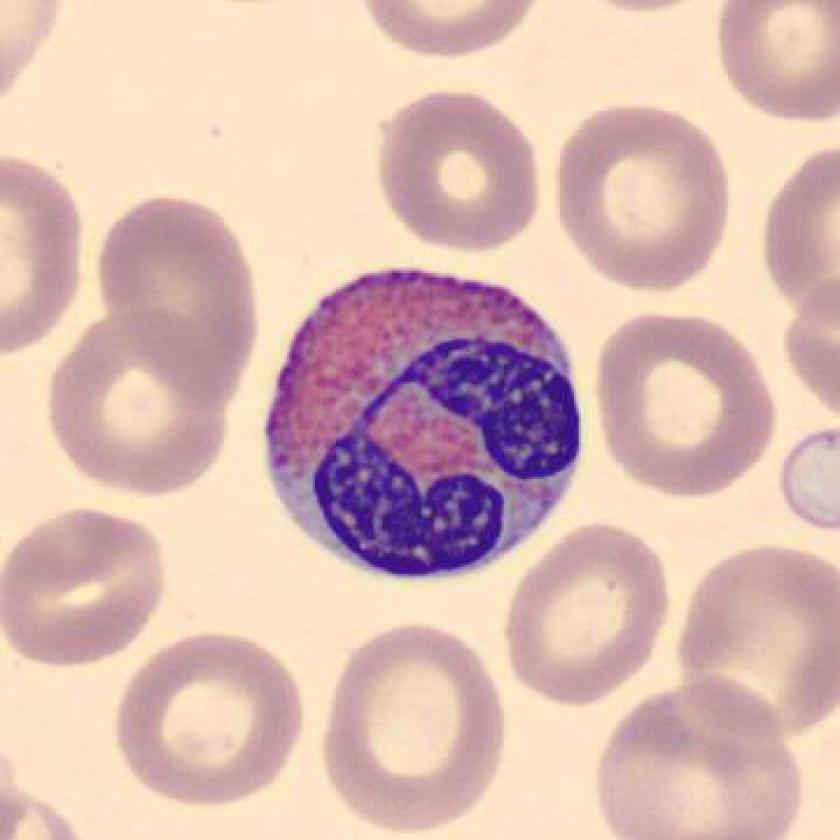eosinophil: (258, 253, 596, 589)
